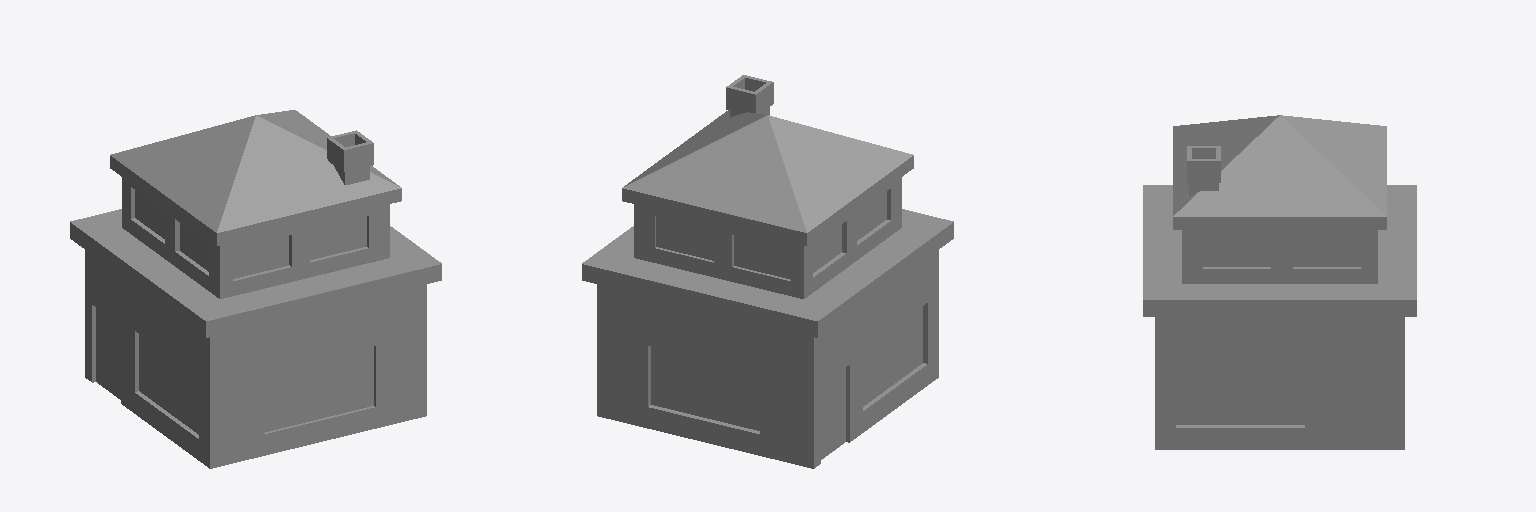
File: House.obj
The picture shows the model from 3 angles: view 1: azimuth 30°, elevation 25°; view 2: azimuth 150°, elevation 25°; view 3: azimuth 270°, elevation 25°; orthographic projection.
Parts seen in each view (by area): view 1: Cube_Cube.002; view 2: Cube_Cube.002; view 3: Cube_Cube.002.
Boxes of the visible parts, x1,y1,x2,y2 form: Cube_Cube.002: [70, 110, 441, 468]; Cube_Cube.002: [582, 75, 953, 468]; Cube_Cube.002: [1143, 115, 1416, 449].
Bounding box in the file's own units: 2.18 × 2.48 × 2.18.